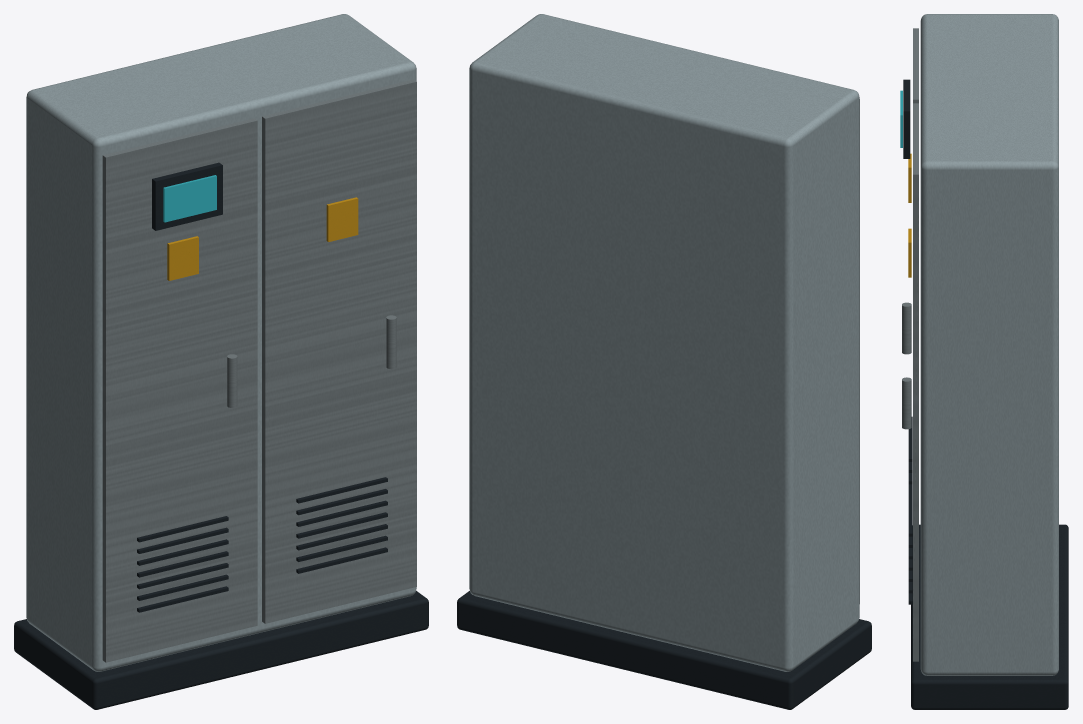
The model's file is electrical-cabinet.773e38194012.glb.
3 views of the same model, side by side, from view 1: azimuth 30°, elevation 25°; view 2: azimuth 150°, elevation 25°; view 3: azimuth 270°, elevation 25° (orthographic). The views are drawn at different scales.
Visible parts, largest first — view 1: door_0013, enclosure_0002, door_0003, plinth_0001, hmi_0023, hmi_screen_0024, danger_label_0022, danger_label_0012; view 2: enclosure_0002, plinth_0001; view 3: enclosure_0002, plinth_0001, door_0013, hmi_0023, latch_0014, latch_0004, door_0003.
Part boxes in pixels (x1,y1,x2,y2): door_0013: [262, 79, 416, 623]; enclosure_0002: [26, 14, 416, 671]; door_0003: [102, 118, 257, 662]; plinth_0001: [14, 591, 428, 709]; hmi_0023: [152, 162, 222, 230]; hmi_screen_0024: [163, 175, 216, 222]; danger_label_0022: [326, 197, 358, 241]; danger_label_0012: [167, 236, 198, 280]; enclosure_0002: [469, 14, 859, 671]; plinth_0001: [457, 591, 871, 709]; enclosure_0002: [920, 14, 1058, 675]; plinth_0001: [911, 524, 1068, 709]; door_0013: [913, 103, 918, 661]; hmi_0023: [903, 79, 910, 158]; latch_0014: [902, 377, 911, 429]; latch_0004: [902, 302, 911, 354]; door_0003: [913, 28, 918, 103].
Size of the model in its own units: 1.35 by 2.17 by 0.609.
5 materials, 4 textured.
